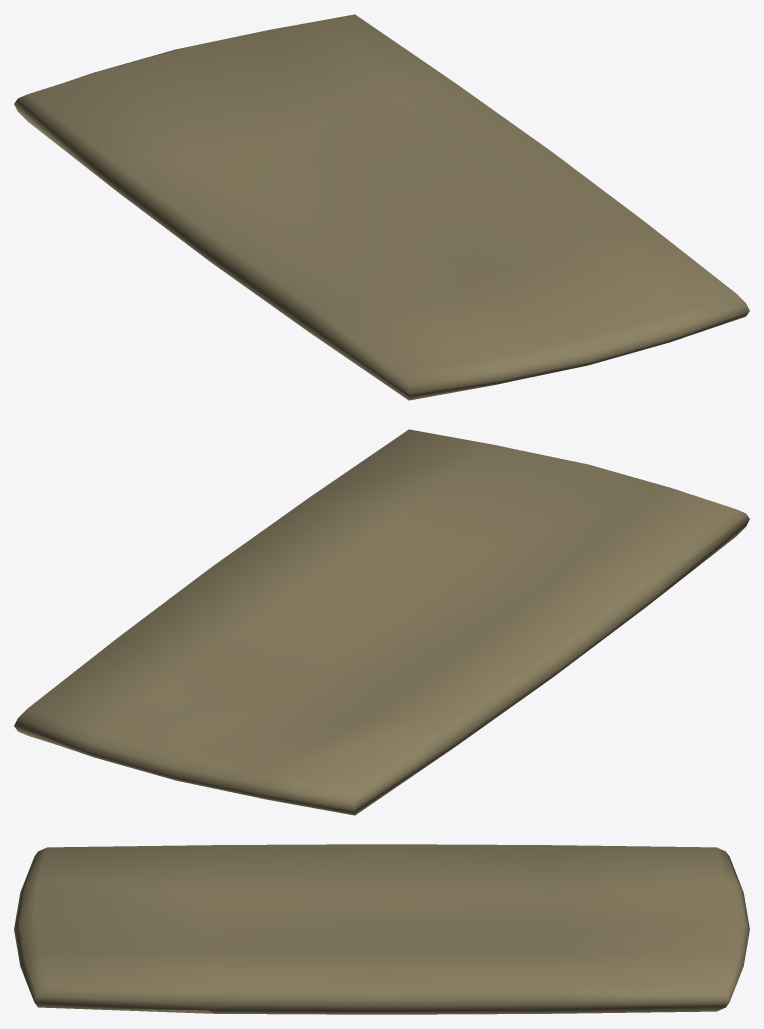
Rendered from Matress.fbx.
The picture shows the model from 3 angles, top to bottom: view 1: azimuth 30°, elevation 25°; view 2: azimuth 150°, elevation 25°; view 3: azimuth 270°, elevation 25°; orthographic projection. The views are drawn at different scales.
Visible parts, largest first — view 1: Cylinder; view 2: Cylinder; view 3: Cylinder.
Boxes of the visible parts, bbox=[...] form: Cylinder: bbox=[14, 14, 749, 400]; Cylinder: bbox=[14, 429, 749, 815]; Cylinder: bbox=[14, 844, 749, 1014].
Bounding box in the file's own units: 5.02 × 0.3978 × 10.12.
